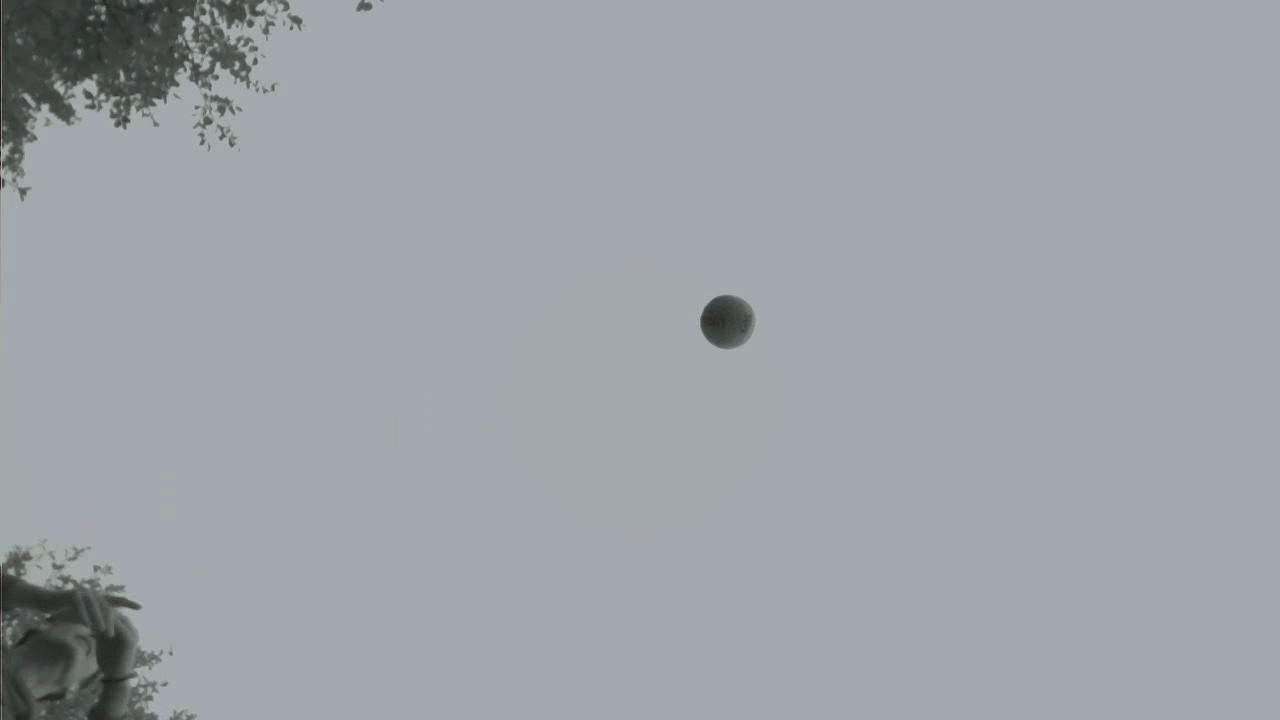Football-Spotter: (701, 295, 754, 348)
